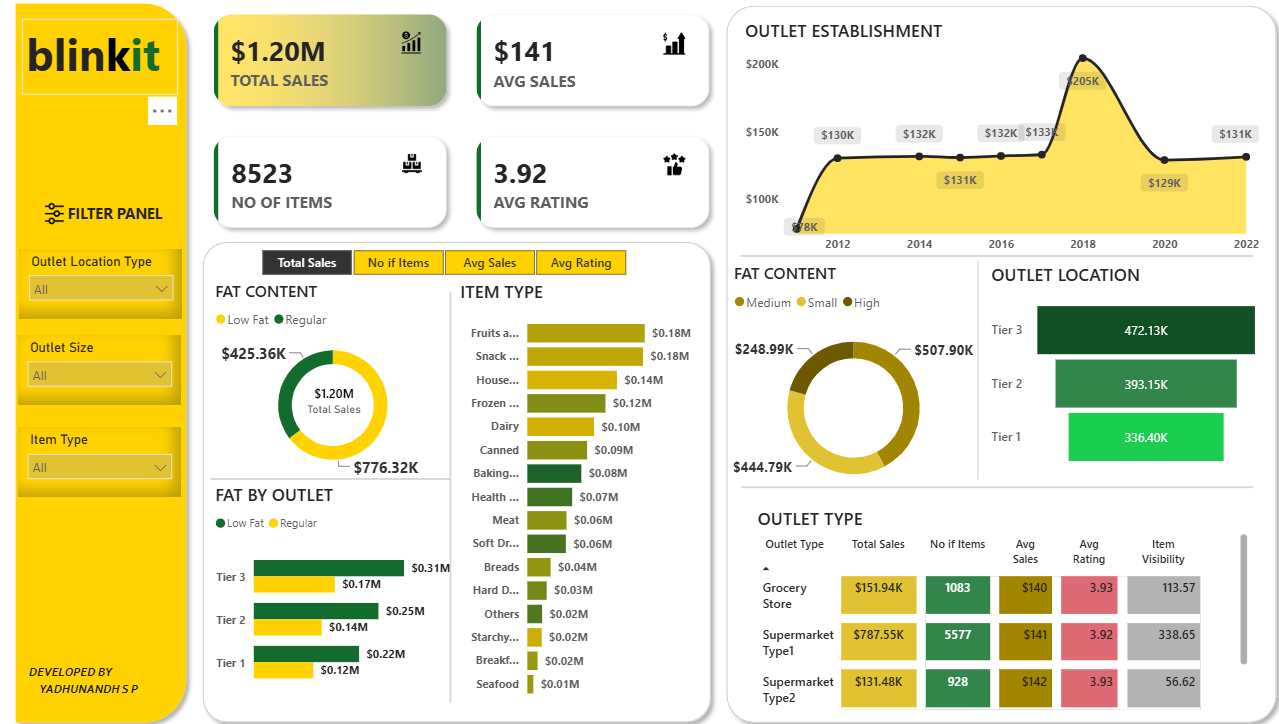

Layout of this report page (visuals, bound fields, positions):
{"tool":"powerbi","page":{"name":"Page 1","canvas":[1400,800],"ordinal":0},"visuals":[{"type":"shape","box":[10.5,0,204.1,800],"z":0},{"type":"textbox","box":[27.1,25.7,170,82.9],"z":1000},{"type":"cardVisual","fields":{"Data":["BlinkIT Grocery Data.Total Sales","BlinkIT Grocery Data.Avg Sales","BlinkIT Grocery Data.No if Items","BlinkIT Grocery Data.Avg Rating"]},"box":[214.3,0,581.4,275.7],"z":2000},{"type":"shape","box":[214.3,260,570,540],"z":2001},{"type":"donutChart","title":"FAT CONTENT","fields":{"Category":["BlinkIT Grocery Data.Item Fat Content"],"Y":["BlinkIT Grocery Data.Total Sales"]},"box":[232.9,310,265.7,220],"z":2002},{"type":"slicer","fields":{"Values":["Parameter.Parameter"]},"box":[262.9,270,445.7,40],"z":2003},{"type":"cardVisual","fields":{"Data":["BlinkIT Grocery Data.Total Sales"]},"box":[302.9,400,127.1,81.4],"z":2004},{"type":"clusteredBarChart","title":"FAT BY OUTLET","fields":{"Series":["BlinkIT Grocery Data.Item Fat Content"],"Y":["BlinkIT Grocery Data.Total Sales"],"Category":["BlinkIT Grocery Data.Outlet Location Type"]},"box":[232.5,530,266.2,238.8],"z":2005},{"type":"barChart","title":"ITEM TYPE","fields":{"Category":["BlinkIT Grocery Data.Item Type"],"Y":["BlinkIT Grocery Data.Total Sales"]},"box":[498.8,310,261.2,465],"z":2006},{"type":"textbox","box":[30,721.4,155.7,78.6],"z":2008},{"type":"shape","box":[784.3,2.9,615.7,797.1],"z":2009},{"type":"lineChart","title":"OUTLET ESTABLISHMENT","fields":{"Y":["BlinkIT Grocery Data.Total Sales"],"Category":["BlinkIT Grocery Data.Outlet Establishment Year"]},"box":[808.6,25.7,568.6,262.9],"z":2010},{"type":"donutChart","title":"FAT CONTENT","fields":{"Y":["BlinkIT Grocery Data.Total Sales"],"Category":["BlinkIT Grocery Data.Outlet Size"]},"box":[795.7,291.4,270,264.3],"z":2011},{"type":"funnel","title":"OUTLET LOCATION","fields":{"Y":["Sum(BlinkIT Grocery Data.Sales)"],"Category":["BlinkIT Grocery Data.Outlet Location Type"]},"box":[1075.7,291.4,301.4,238.6],"z":2012},{"type":"shape","box":[808.6,275.7,557.1,15.7],"z":2013},{"type":"shape","box":[1057.1,288.6,18.6,238.6],"z":2014},{"type":"shape","box":[232.9,521.4,260,8.6],"z":2015},{"type":"shape","box":[444.3,322.9,97.1,445.7],"z":2016},{"type":"shape","box":[808.6,527.1,557.1,15.7],"z":2017},{"type":"pivotTable","title":"OUTLET TYPE","fields":{"Rows":["BlinkIT Grocery Data.Outlet Type"],"Values":["BlinkIT Grocery Data.Total Sales","BlinkIT Grocery Data.No if Items","BlinkIT Grocery Data.Avg Sales","BlinkIT Grocery Data.Avg Rating","Sum(BlinkIT Grocery Data.Item Visibility)"]},"box":[821.4,555.7,542.9,225.7],"z":2018},{"type":"slicer","fields":{"Values":["BlinkIT Grocery Data.Outlet Location Type"]},"box":[24.3,275.7,177.1,75.7],"z":2019},{"type":"slicer","fields":{"Values":["BlinkIT Grocery Data.Outlet Size"]},"box":[22.9,370,177.1,75.7],"z":2020},{"type":"slicer","fields":{"Values":["BlinkIT Grocery Data.Item Type"]},"box":[22.9,470,177.1,75.7],"z":2021},{"type":"textbox","box":[87.1,221.4,114.3,54.3],"z":2022},{"type":"image","box":[0,217.1,125.7,44],"z":2023}]}

Visuals, with their boxes in screenshot pixels (x1, y1, x2, y2), scaled from the page's 1400x800 canvas onto the 1279x724 screenshot:
shape: <box>10,0,196,723</box>
textbox: <box>25,23,180,98</box>
cardVisual - BlinkIT Grocery Data.Total Sales x BlinkIT Grocery Data.Avg Sales: <box>196,0,727,250</box>
shape: <box>196,235,717,723</box>
"FAT CONTENT" donutChart: <box>213,281,456,480</box>
slicer - Parameter.Parameter: <box>240,244,647,281</box>
cardVisual - BlinkIT Grocery Data.Total Sales: <box>277,362,393,436</box>
"FAT BY OUTLET" clusteredBarChart: <box>212,480,456,696</box>
"ITEM TYPE" barChart: <box>456,281,694,701</box>
textbox: <box>27,653,170,723</box>
shape: <box>717,3,1278,723</box>
"OUTLET ESTABLISHMENT" lineChart: <box>739,23,1258,261</box>
"FAT CONTENT" donutChart: <box>727,264,974,503</box>
"OUTLET LOCATION" funnel: <box>983,264,1258,480</box>
shape: <box>739,250,1248,264</box>
shape: <box>966,261,983,477</box>
shape: <box>213,472,450,480</box>
shape: <box>406,292,495,696</box>
shape: <box>739,477,1248,491</box>
"OUTLET TYPE" pivotTable: <box>750,503,1246,707</box>
slicer - BlinkIT Grocery Data.Outlet Location Type: <box>22,250,184,318</box>
slicer - BlinkIT Grocery Data.Outlet Size: <box>21,335,183,403</box>
slicer - BlinkIT Grocery Data.Item Type: <box>21,425,183,494</box>
textbox: <box>80,200,184,250</box>
image: <box>0,196,115,236</box>
